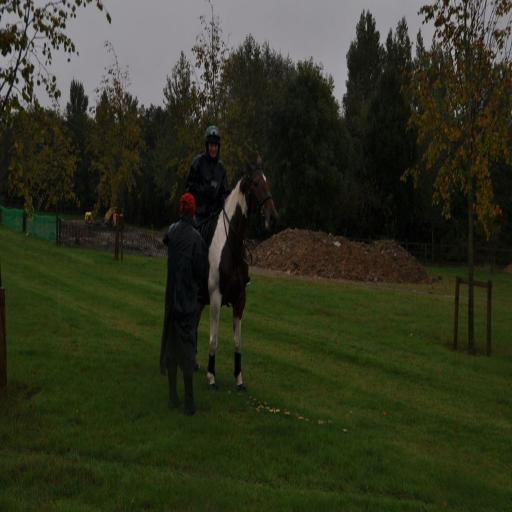horse: (206, 150, 281, 394)
